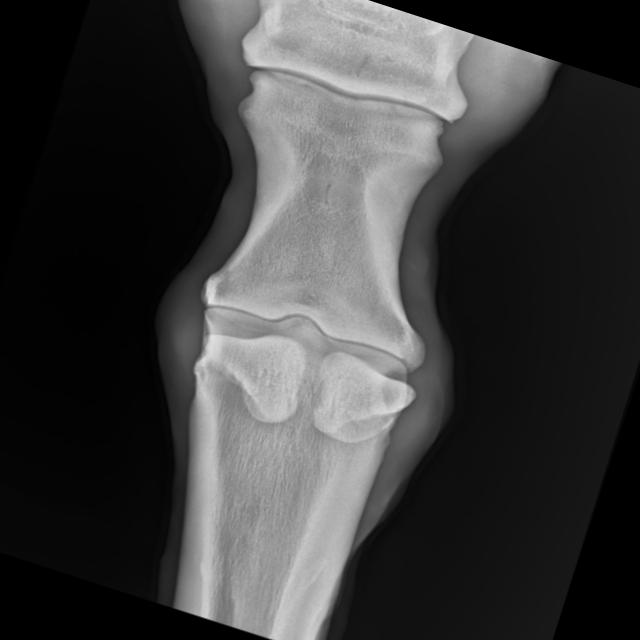joint-ht8A: (94, 193, 515, 527)
